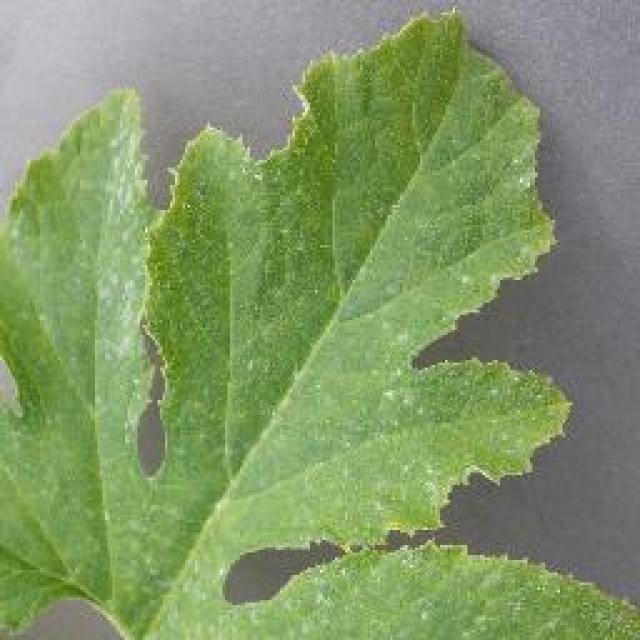Squ_Powdery_mildew: (63, 162, 437, 544)
